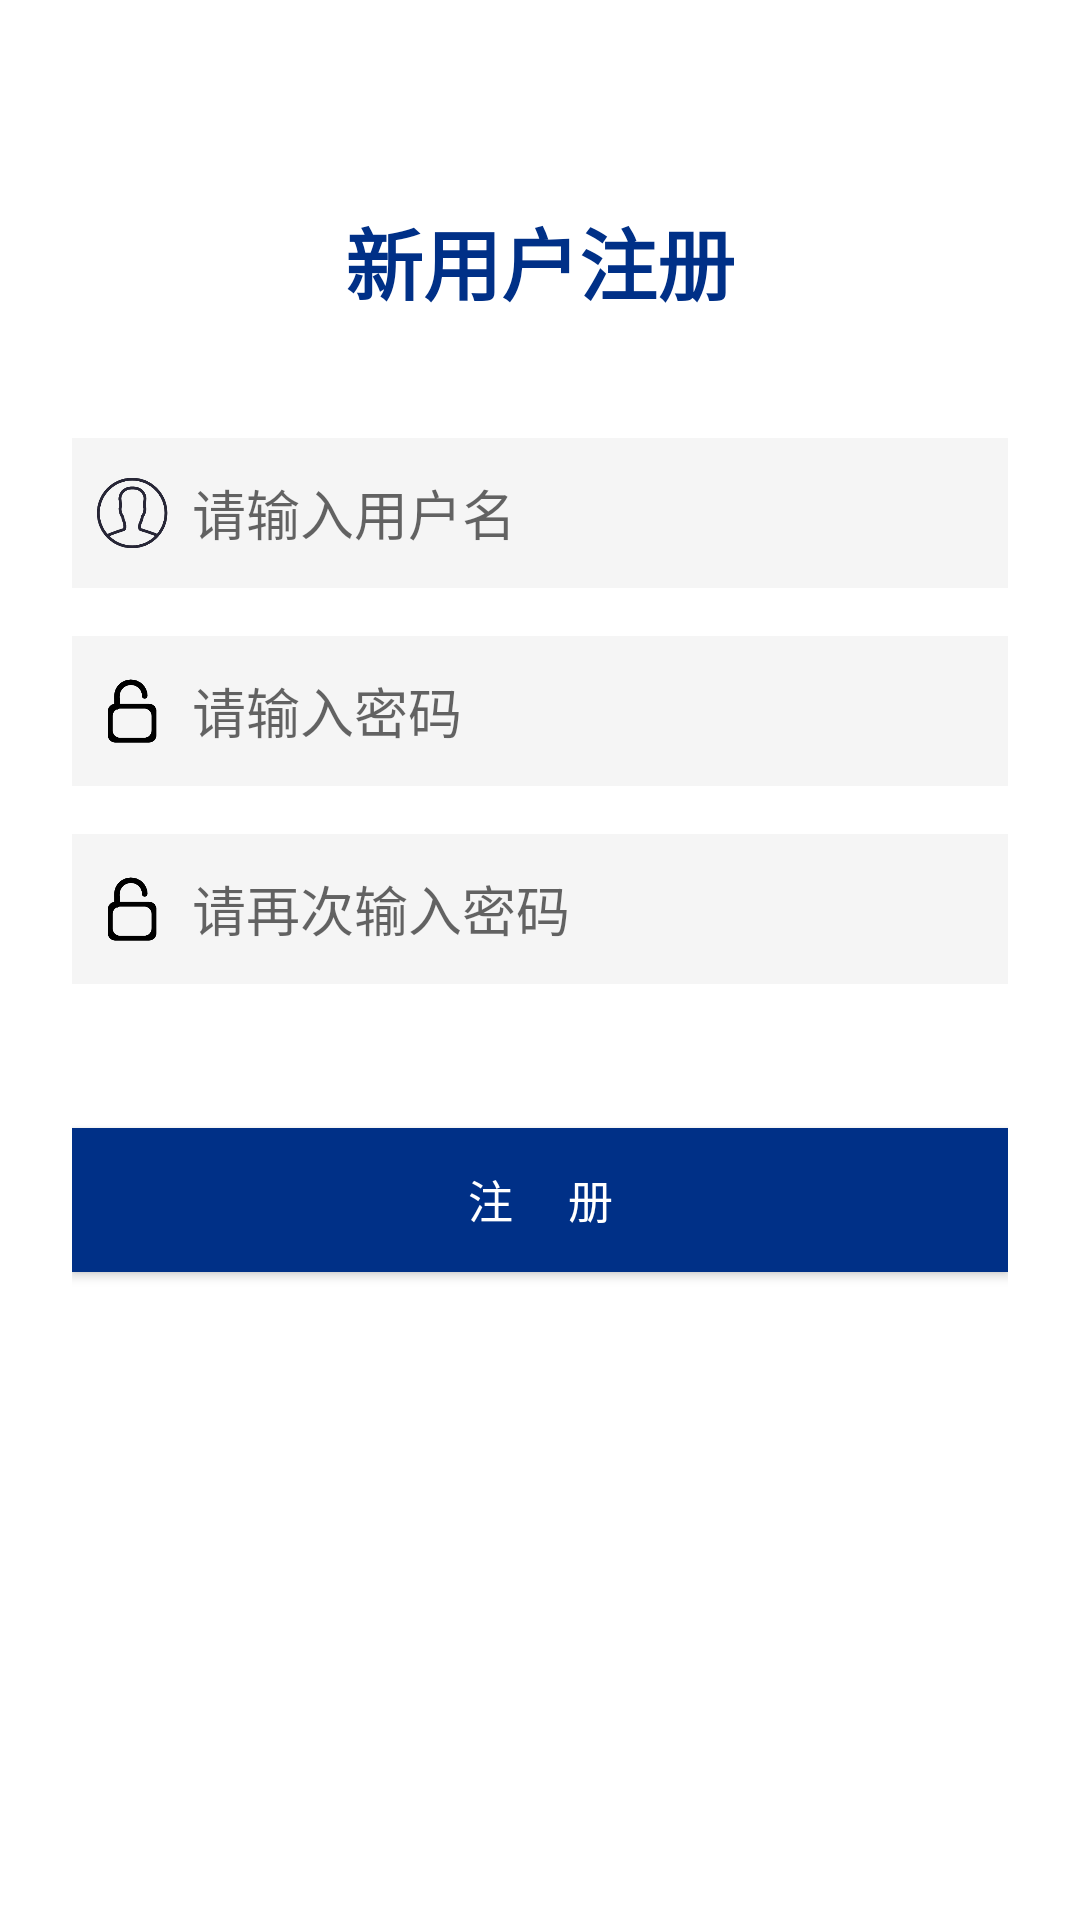

Named icons in this screenshot (1080*1920) and their centers, (x=x, y=y):
password: (x=132, y=711), (x=132, y=909)
username: (x=132, y=513)
